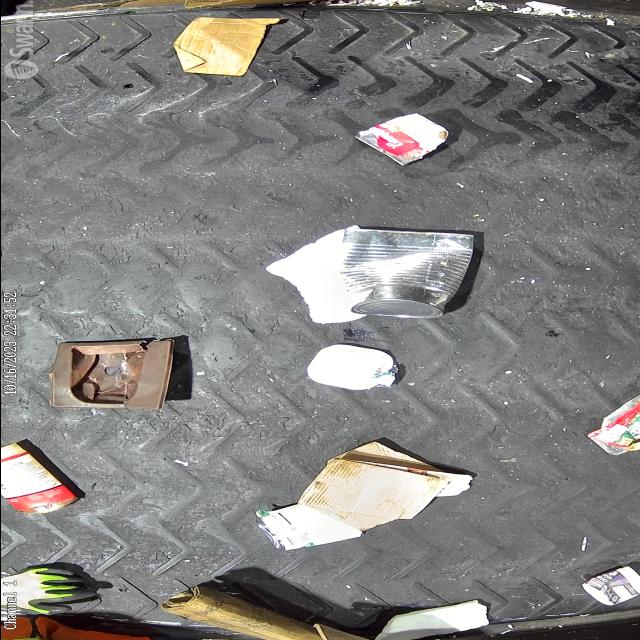can: (340, 228, 474, 318), (252, 503, 362, 551), (353, 112, 449, 166)
